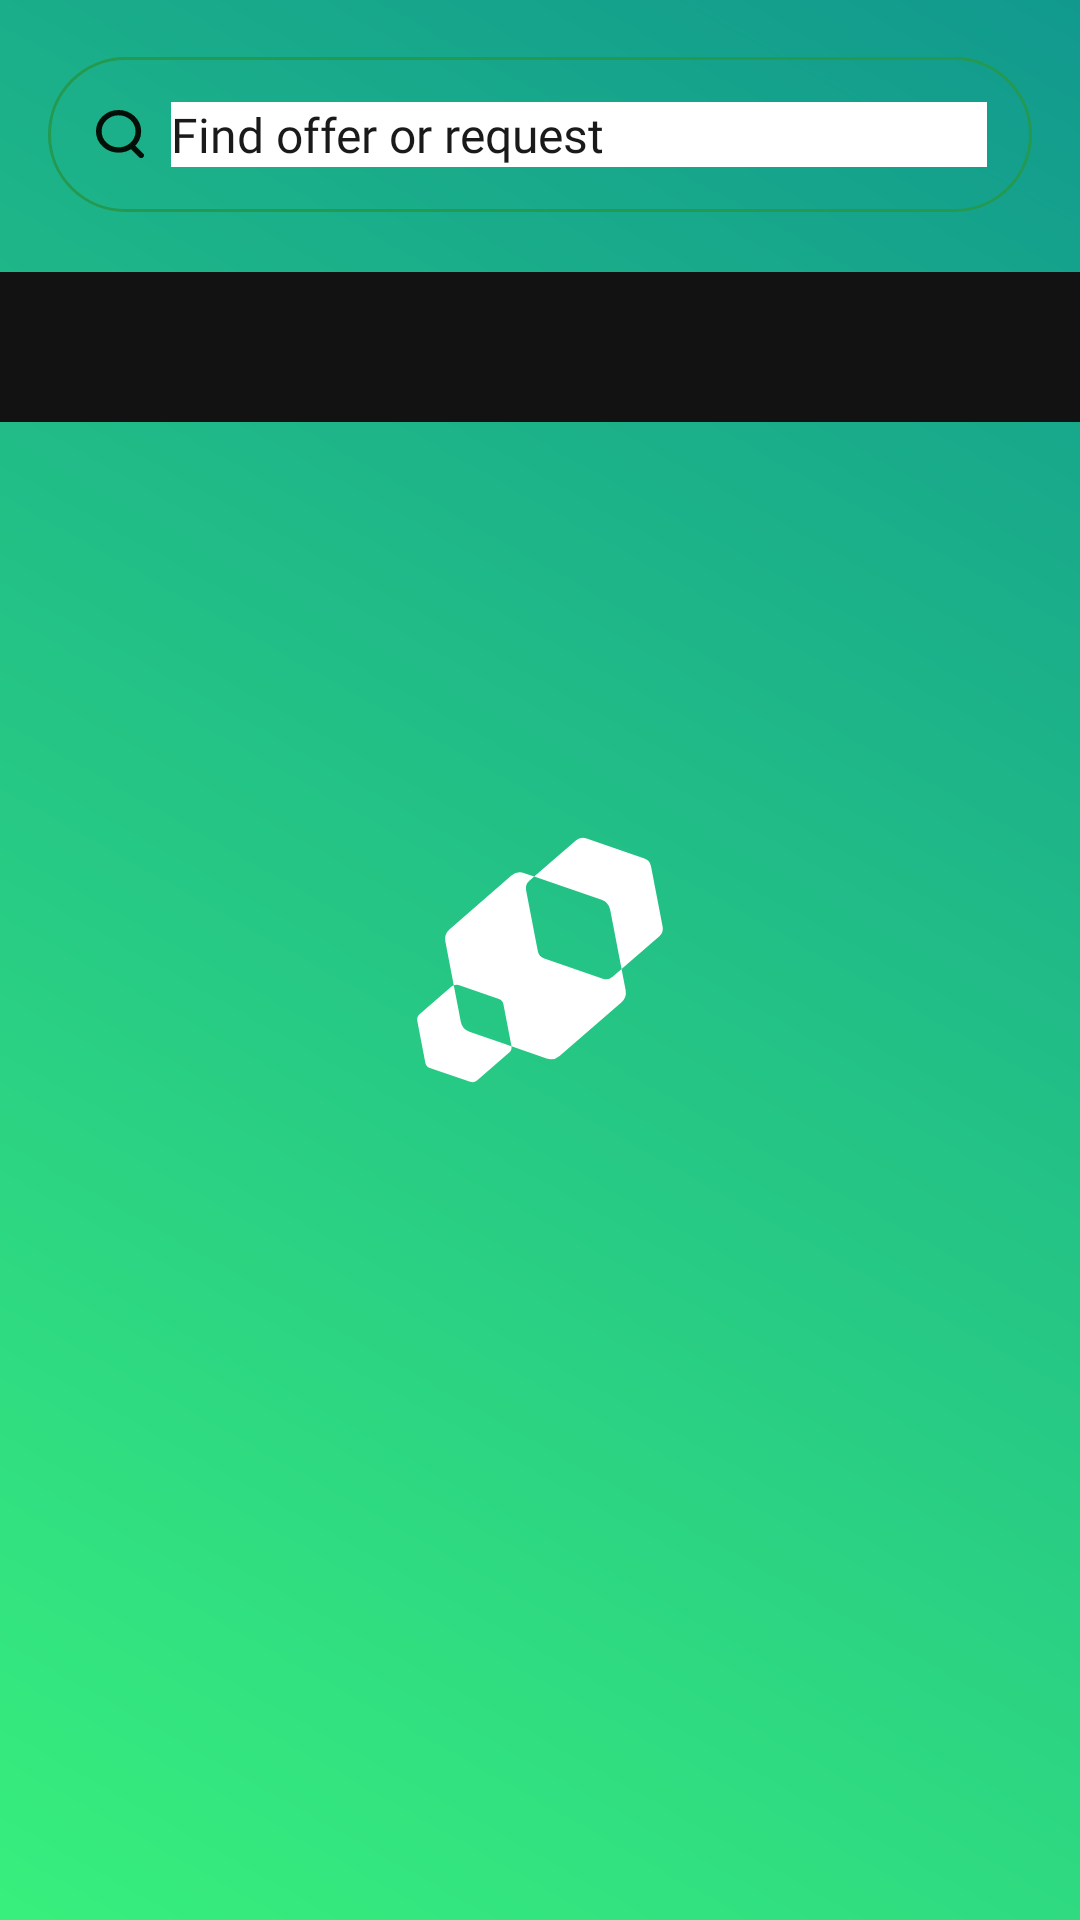

Named icons in this screenshot (1080 × 1920) and their centers, [x,y]:
search: [120,134]
